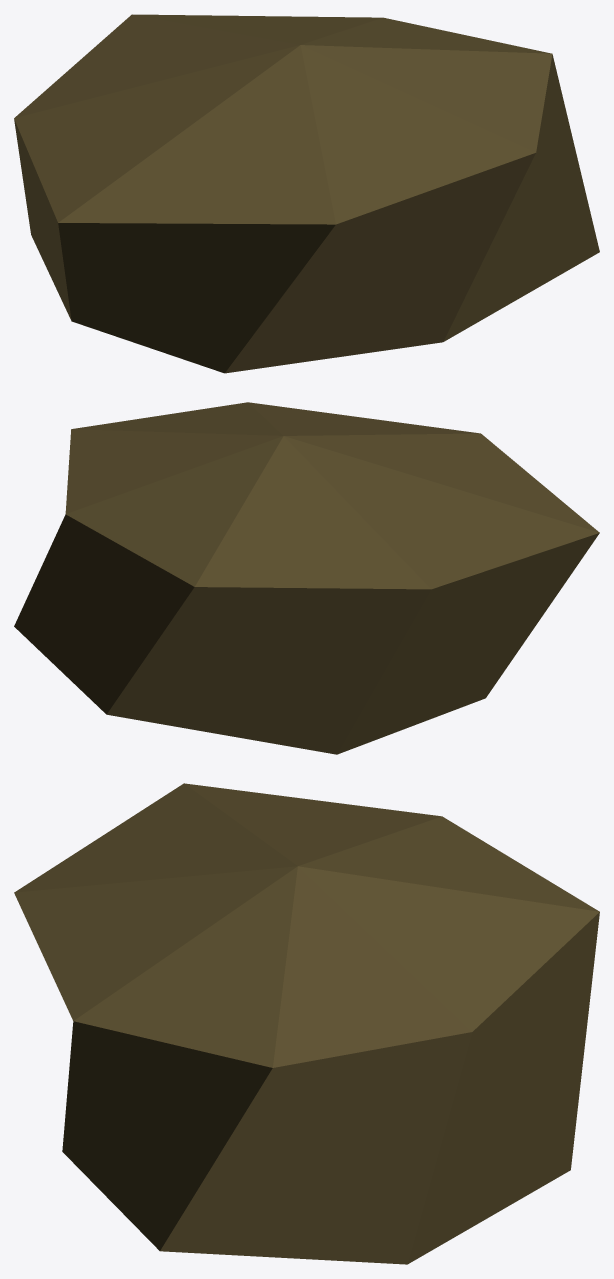
Rendered from shinnery-far.glb.
3 renders of one model, top to bottom at view 1: azimuth 30°, elevation 25°; view 2: azimuth 150°, elevation 25°; view 3: azimuth 270°, elevation 25°, orthographic. The views are drawn at different scales.
Visible parts, largest first — view 1: shinnery-far / foliage-core; view 2: shinnery-far / foliage-core; view 3: shinnery-far / foliage-core.
Part boxes in pixels (x1,y1,x2,y2): shinnery-far / foliage-core: [14, 14, 599, 373]; shinnery-far / foliage-core: [14, 402, 599, 754]; shinnery-far / foliage-core: [14, 783, 599, 1264].
Bounding box in the file's own units: 2 × 1.03 × 1.66.
